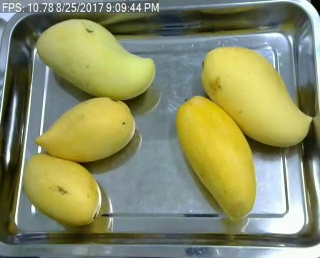Mango: (201, 44, 313, 147), (173, 94, 258, 218), (35, 17, 156, 99), (34, 98, 137, 162), (23, 153, 101, 226)
